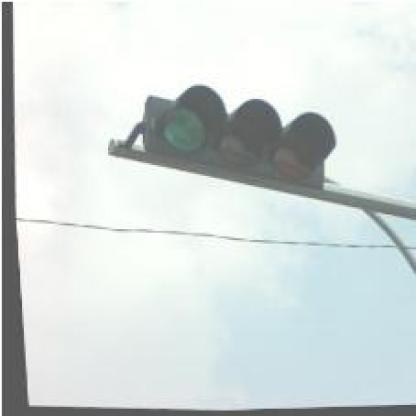green: (132, 78, 337, 197)
